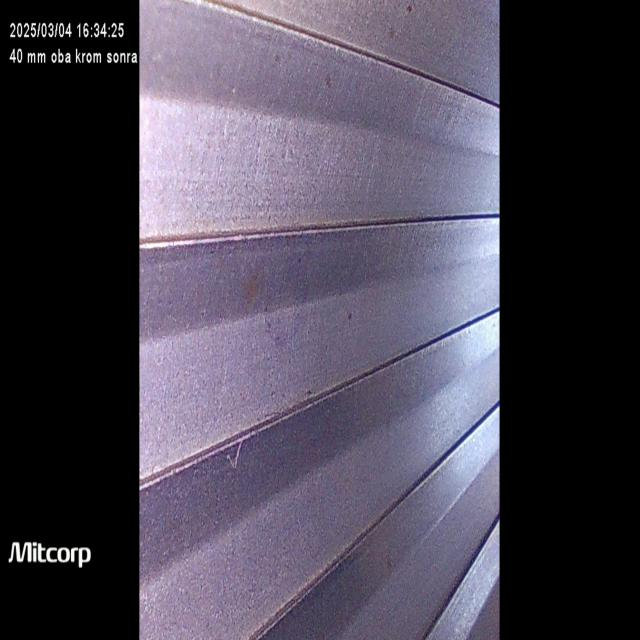hata_4.2: (237, 250, 265, 318), (316, 64, 342, 105), (379, 544, 402, 588), (272, 33, 293, 80), (300, 378, 323, 420), (343, 295, 360, 340), (258, 312, 280, 342), (386, 21, 403, 56), (294, 246, 312, 277), (401, 3, 419, 26)
